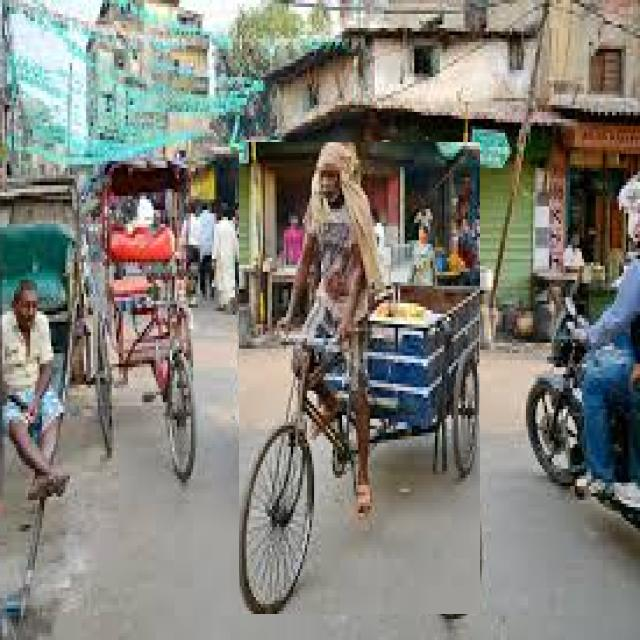bicycle: (239, 143, 480, 614)
